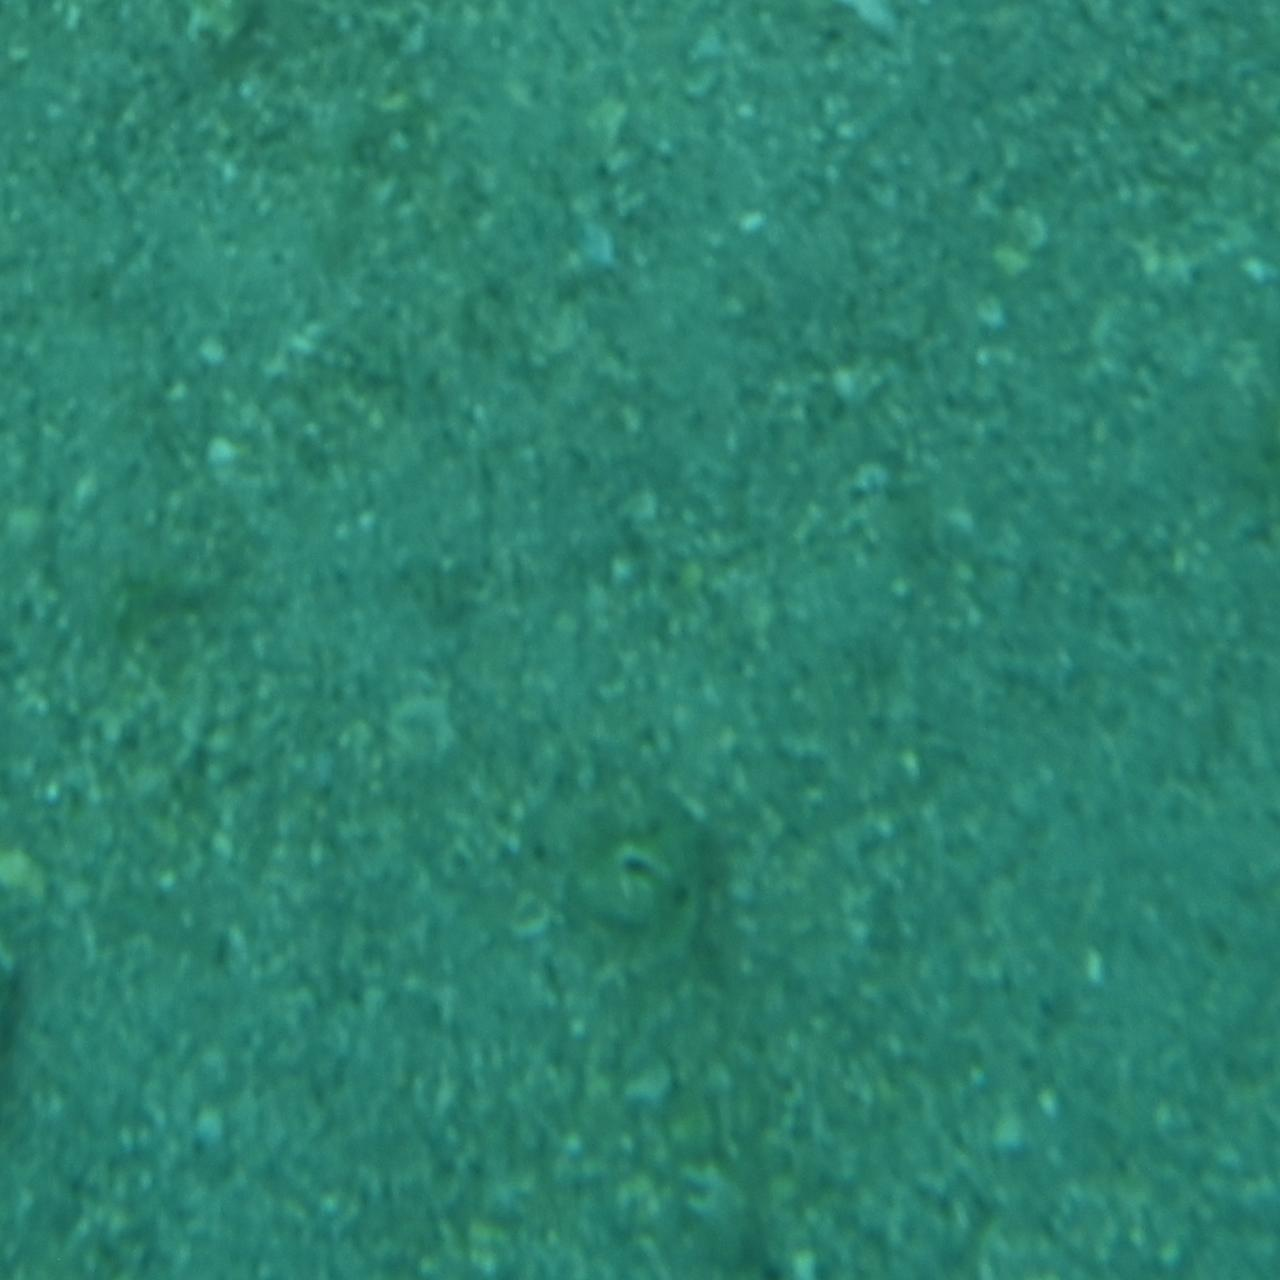Sarcotragus spinosulus: (565, 804, 715, 971)
